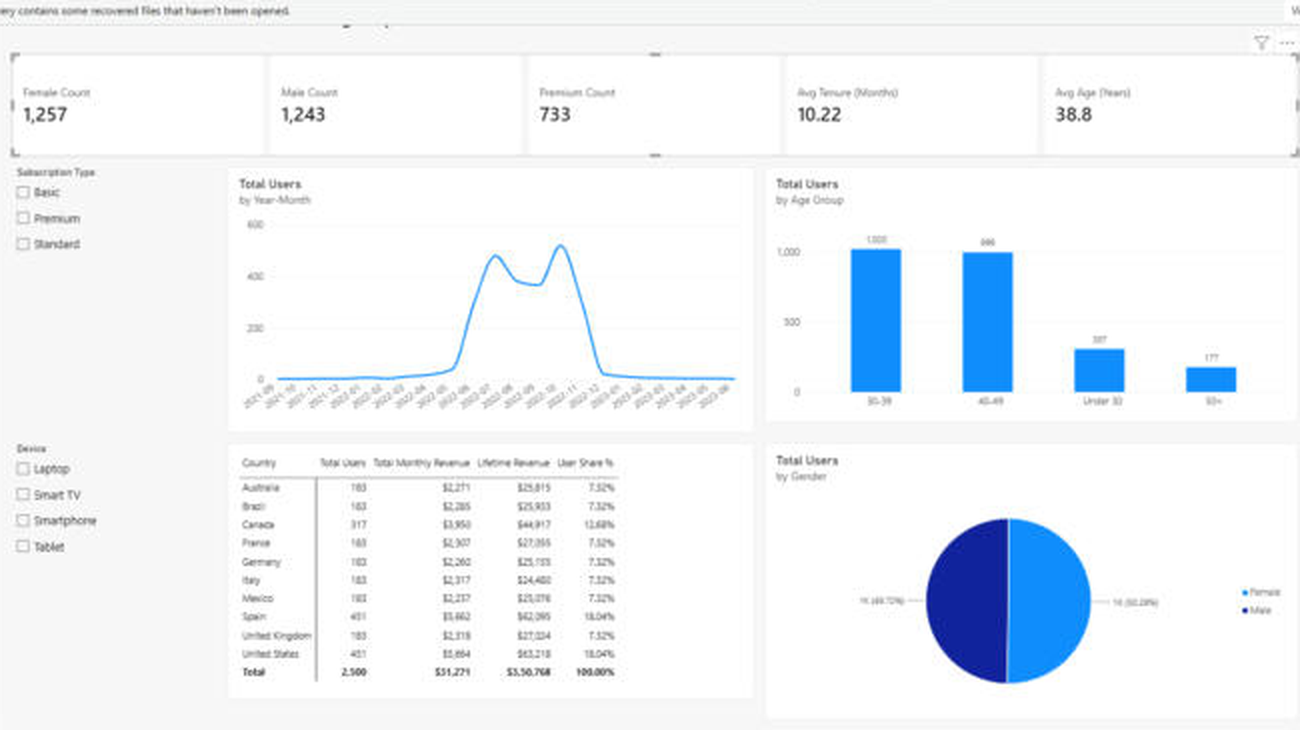

Layout of this report page (visuals, bound fields, positions):
{"tool":"powerbi","page":{"name":"User Insights","canvas":[1920,1080],"ordinal":1},"visuals":[{"type":"lineChart","fields":{"Category":["Date.Year-Month"],"Y":["Netflix Userbase.Total Users"]},"box":[335,250,770,390],"z":1000},{"type":"columnChart","fields":{"Category":["Netflix Userbase.Age Group"],"Y":["Netflix Userbase.Total Users"]},"box":[1120,250,780,375],"z":2000},{"type":"pivotTable","fields":{"Rows":["Country.Country"],"Values":["Netflix Userbase.Total Users","Netflix Userbase.Total Monthly Revenue","Netflix Userbase.Lifetime Revenue","Netflix Userbase.User Share %"]},"box":[335,655,770,375],"z":3000},{"type":"pieChart","fields":{"Category":["Gender.Gender"],"Y":["Netflix Userbase.Total Users"]},"box":[1120,655,780,405],"z":4000},{"type":"slicer","fields":{"Values":["Subscription.Subscription Type"]},"box":[20,250,300,390],"z":5000},{"type":"slicer","fields":{"Values":["Device.Device"]},"box":[20,655,300,405],"z":6000},{"type":"textbox","box":[20,10,1820,65],"z":7000},{"type":"cardVisual","fields":{"Data":["Netflix Userbase.Female Count","Netflix Userbase.Male Count","Netflix Userbase.Premium Count","Netflix Userbase.Avg Tenure (Months)","Netflix Userbase.Avg Age (Years)"]},"box":[20,85,1880,150],"z":7001}]}

Visuals, with their boxes on the page's 1920x1080 design canvas (x1, y1, x2, y2). These are canvas units, not pixel positions in the 1300x730 screenshot, which may show the page scaled, cropped or inside an application window:
lineChart - Date.Year-Month x Netflix Userbase.Total Users: pyautogui.locateOnScreen(335, 250, 1105, 640)
columnChart - Netflix Userbase.Age Group x Netflix Userbase.Total Users: pyautogui.locateOnScreen(1120, 250, 1900, 625)
pivotTable - Country.Country x Netflix Userbase.Total Users: pyautogui.locateOnScreen(335, 655, 1105, 1030)
pieChart - Gender.Gender x Netflix Userbase.Total Users: pyautogui.locateOnScreen(1120, 655, 1900, 1060)
slicer - Subscription.Subscription Type: pyautogui.locateOnScreen(20, 250, 320, 640)
slicer - Device.Device: pyautogui.locateOnScreen(20, 655, 320, 1060)
textbox: pyautogui.locateOnScreen(20, 10, 1840, 75)
cardVisual - Netflix Userbase.Female Count x Netflix Userbase.Male Count: pyautogui.locateOnScreen(20, 85, 1900, 235)
